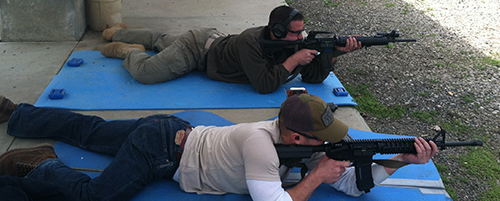Rifle: (267, 129, 484, 193), (259, 29, 419, 79)
